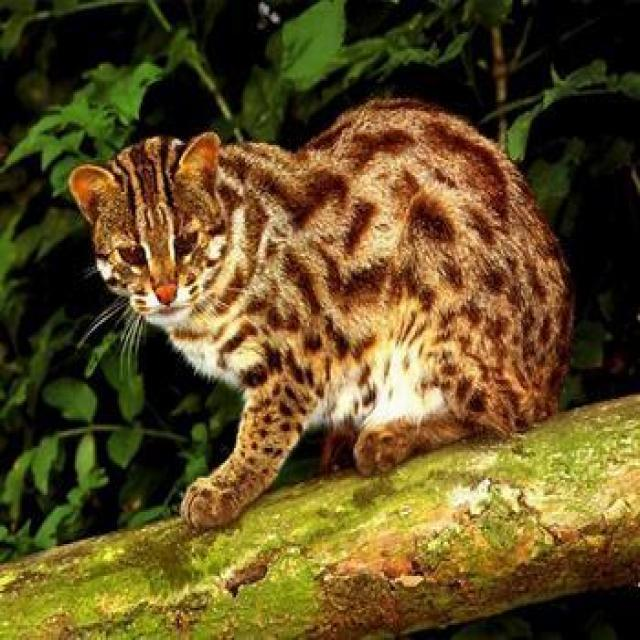cat: (69, 102, 571, 527)
